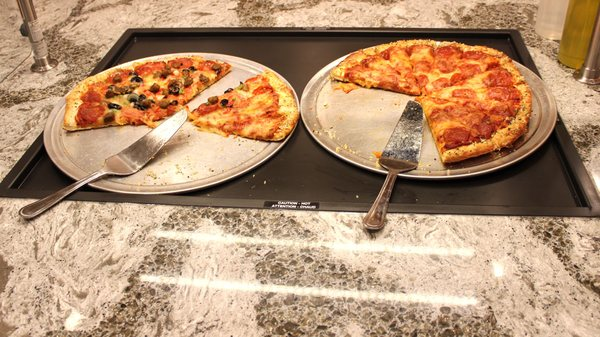burger: (361, 100, 422, 233)
pizza: (556, 2, 600, 73)
sandwich: (20, 110, 189, 219)
